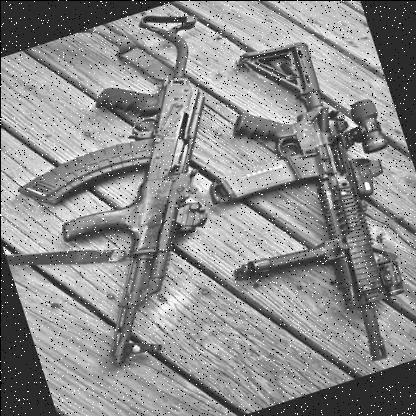rifle: (0, 0, 298, 378), (159, 14, 416, 398)
